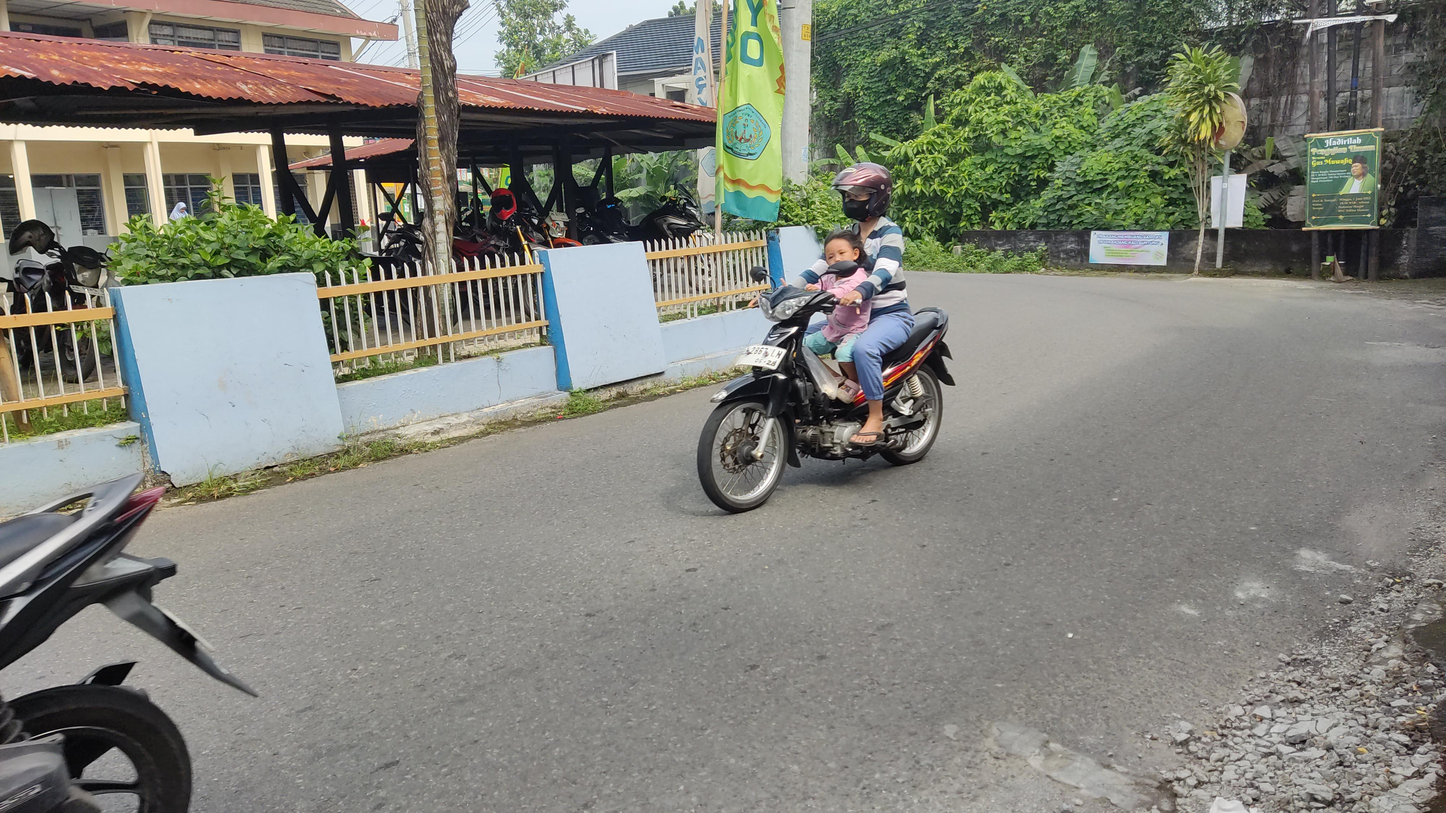helm: (834, 154, 895, 226)
riding: (695, 148, 964, 520)
